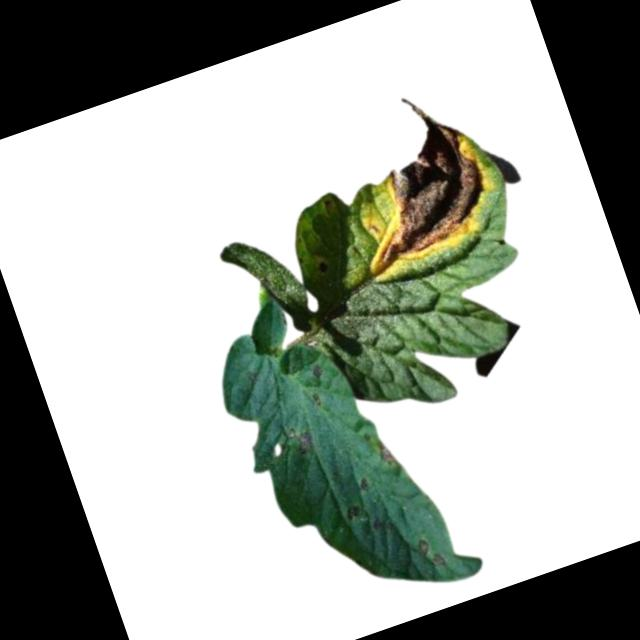Early_blight: (313, 81, 505, 285), (290, 427, 316, 456), (375, 441, 398, 466), (410, 536, 431, 558), (342, 500, 362, 522), (309, 360, 324, 379), (429, 553, 444, 568)
